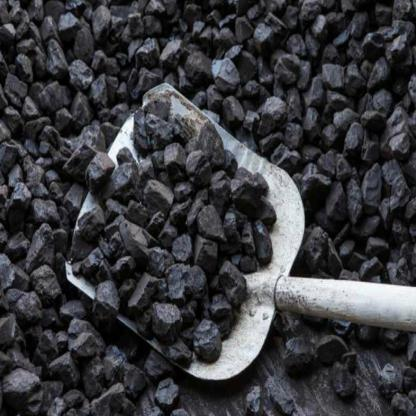Sedimentary_coal: (0, 368, 44, 415), (142, 170, 179, 221), (128, 110, 176, 147), (164, 257, 204, 299), (225, 166, 267, 206), (127, 264, 154, 319), (32, 254, 58, 307), (379, 160, 407, 209), (192, 121, 224, 163), (74, 320, 103, 366), (212, 47, 240, 90), (48, 9, 82, 42), (76, 154, 109, 185), (335, 121, 364, 152)
